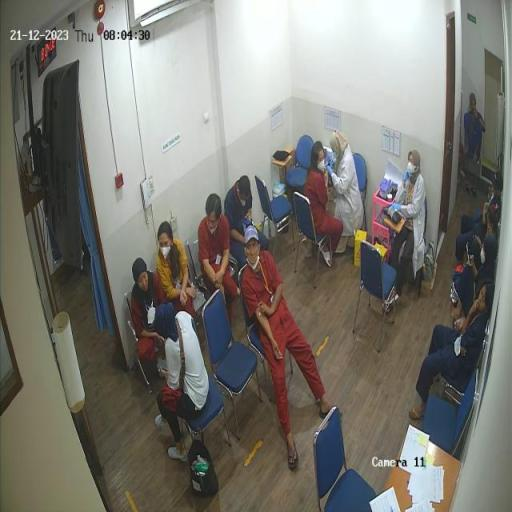person: (240, 225, 335, 471), (409, 287, 491, 420), (156, 312, 211, 461), (385, 149, 427, 293), (200, 195, 241, 328), (450, 235, 499, 333), (305, 141, 345, 259), (456, 171, 504, 269), (157, 222, 200, 329), (132, 259, 180, 352), (327, 131, 364, 244), (225, 176, 255, 276), (471, 204, 501, 273), (465, 93, 487, 167)
